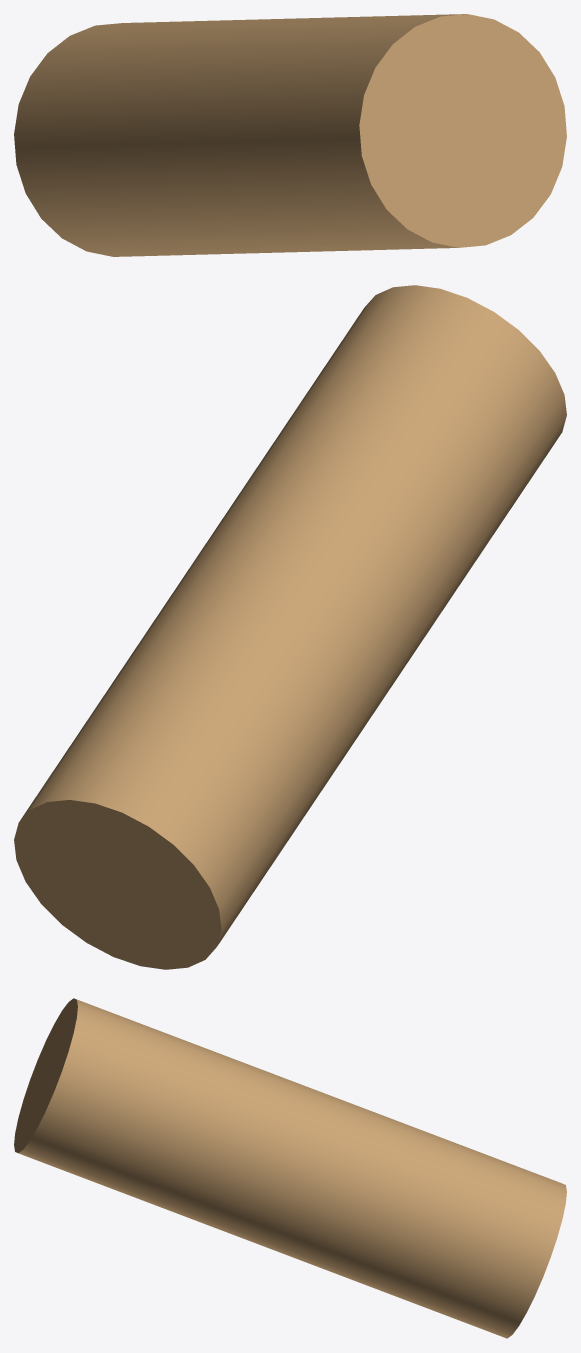
Rendered from original-9.obj.
3 renders of one model, top to bottom at view 1: azimuth 30°, elevation 25°; view 2: azimuth 150°, elevation 25°; view 3: azimuth 270°, elevation 25°, orthographic. The views are drawn at different scales.
Visible parts, largest first — view 1: mesh14/mesh14-geometry#mesh14-geometry; view 2: mesh14/mesh14-geometry#mesh14-geometry; view 3: mesh14/mesh14-geometry#mesh14-geometry.
Part boxes in pixels (x1,y1,x2,y2): mesh14/mesh14-geometry#mesh14-geometry: (14, 14, 566, 256); mesh14/mesh14-geometry#mesh14-geometry: (14, 285, 566, 969); mesh14/mesh14-geometry#mesh14-geometry: (14, 998, 566, 1338).
Bounding box in the file's own units: 0.00835 × 0.018 × 0.0279.
